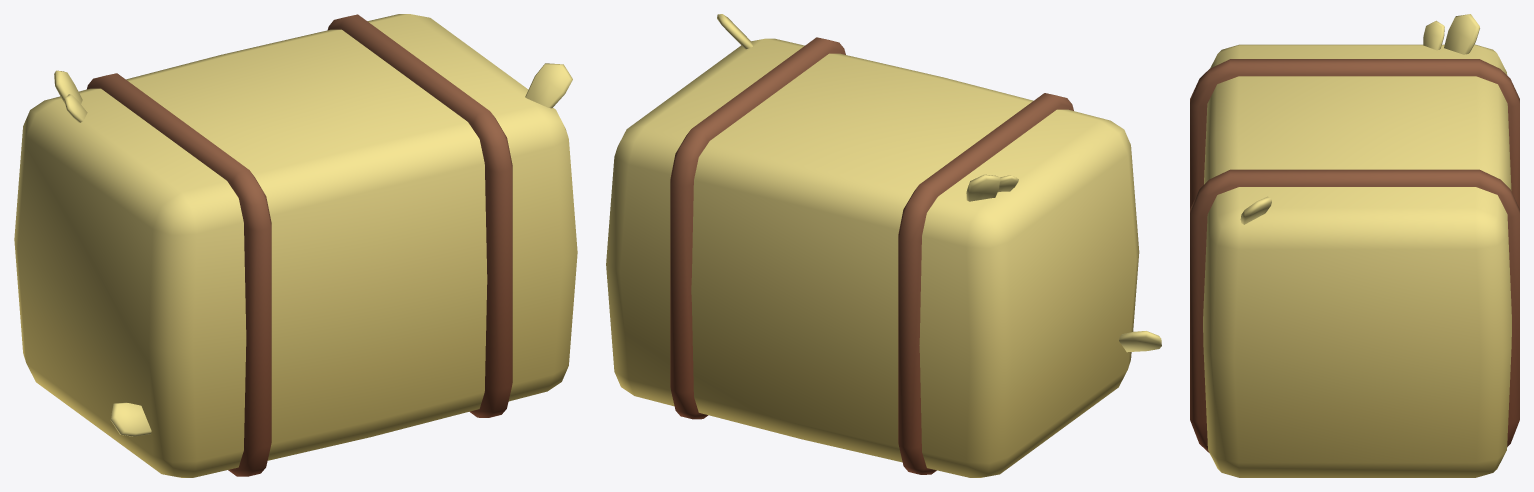
File: hay.fbx
3 renders of one model, left to right at view 1: azimuth 30°, elevation 25°; view 2: azimuth 150°, elevation 25°; view 3: azimuth 270°, elevation 25°, orthographic. The views are drawn at different scales.
Visible parts, largest first — view 1: hay; view 2: hay; view 3: hay.
Part boxes in pixels (x1,y1,x2,y2): hay: (14,14,577,477); hay: (606,14,1161,477); hay: (1190,14,1519,477).
Bounding box in the file's own units: 1.28 × 0.8591 × 0.8392.
Materials: 1 (1 with a texture image).
